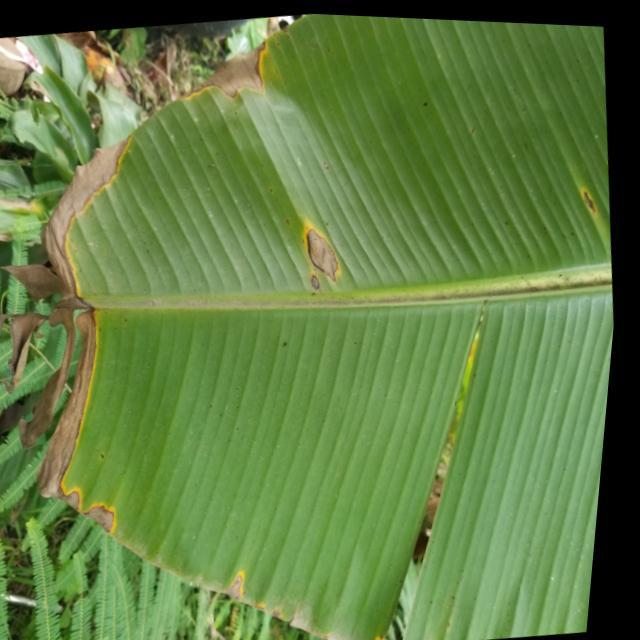Early_rust: (6, 33, 380, 553)
